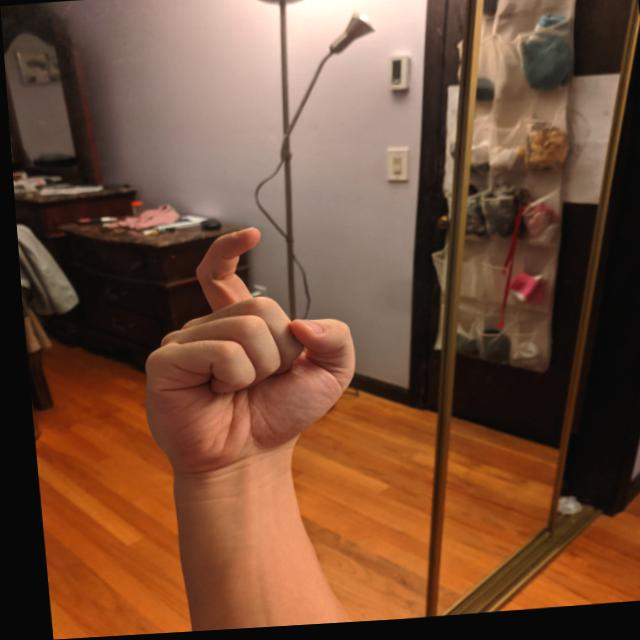X: (121, 220, 362, 484)
